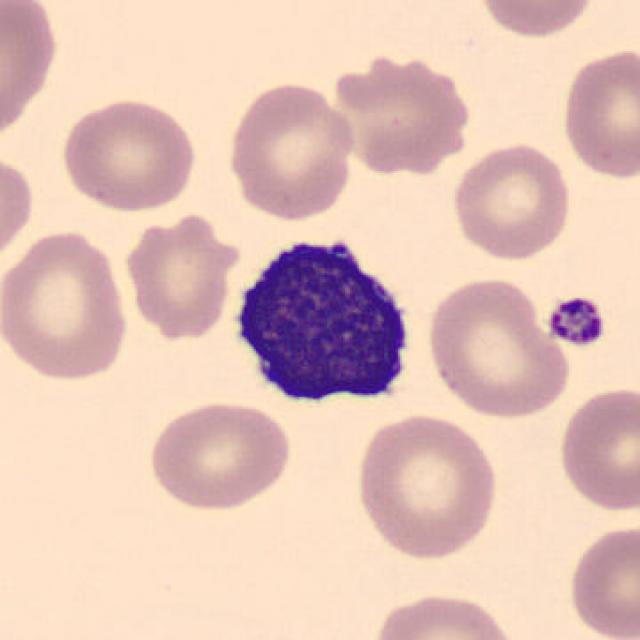Lymphocyte: (222, 222, 423, 416)
Platelets: (540, 291, 610, 349)
RBC: (350, 409, 503, 564), (423, 274, 576, 422), (2, 224, 133, 386), (222, 78, 359, 222), (144, 395, 293, 515), (119, 206, 245, 346), (57, 96, 199, 214), (448, 139, 574, 263), (557, 44, 639, 183), (553, 384, 640, 515), (563, 520, 640, 638), (366, 589, 523, 640), (471, 0, 596, 41), (0, 148, 36, 263)
